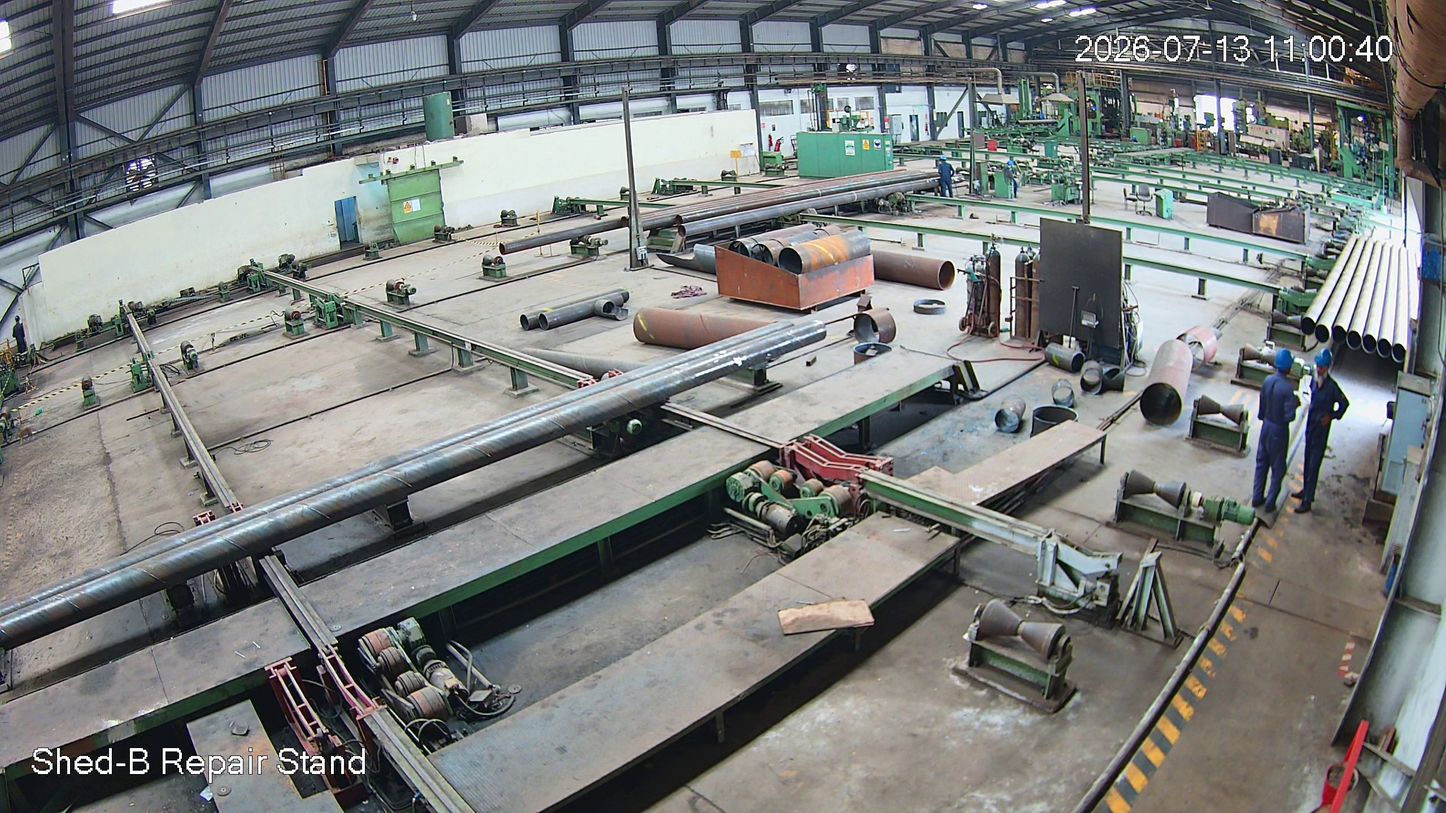Helmet: (1307, 346, 1342, 386), (1270, 345, 1295, 382)
Person: (1248, 350, 1298, 513), (1297, 348, 1345, 515)
